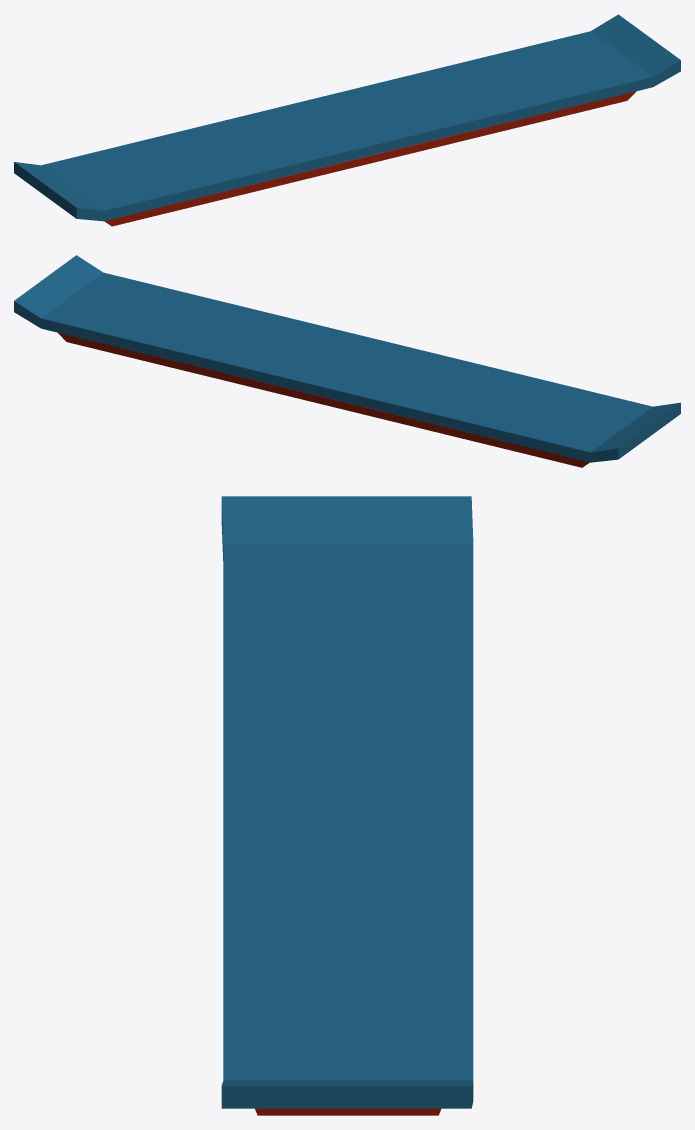
File: Roof01.fbx
The picture shows the model from 3 angles, top to bottom: view 1: azimuth 30°, elevation 25°; view 2: azimuth 150°, elevation 25°; view 3: azimuth 270°, elevation 25°; orthographic projection. The views are drawn at different scales.
Parts seen in each view (by area): view 1: pCube1; view 2: pCube1; view 3: pCube1.
Part boxes in pixels (left/top/right/bottom): pCube1: left=14, top=14, right=680, bottom=226; pCube1: left=14, top=255, right=680, bottom=467; pCube1: left=221, top=496, right=473, bottom=1115.
Bounding box in the file's own units: 6.95 × 0.4003 × 1.25.
